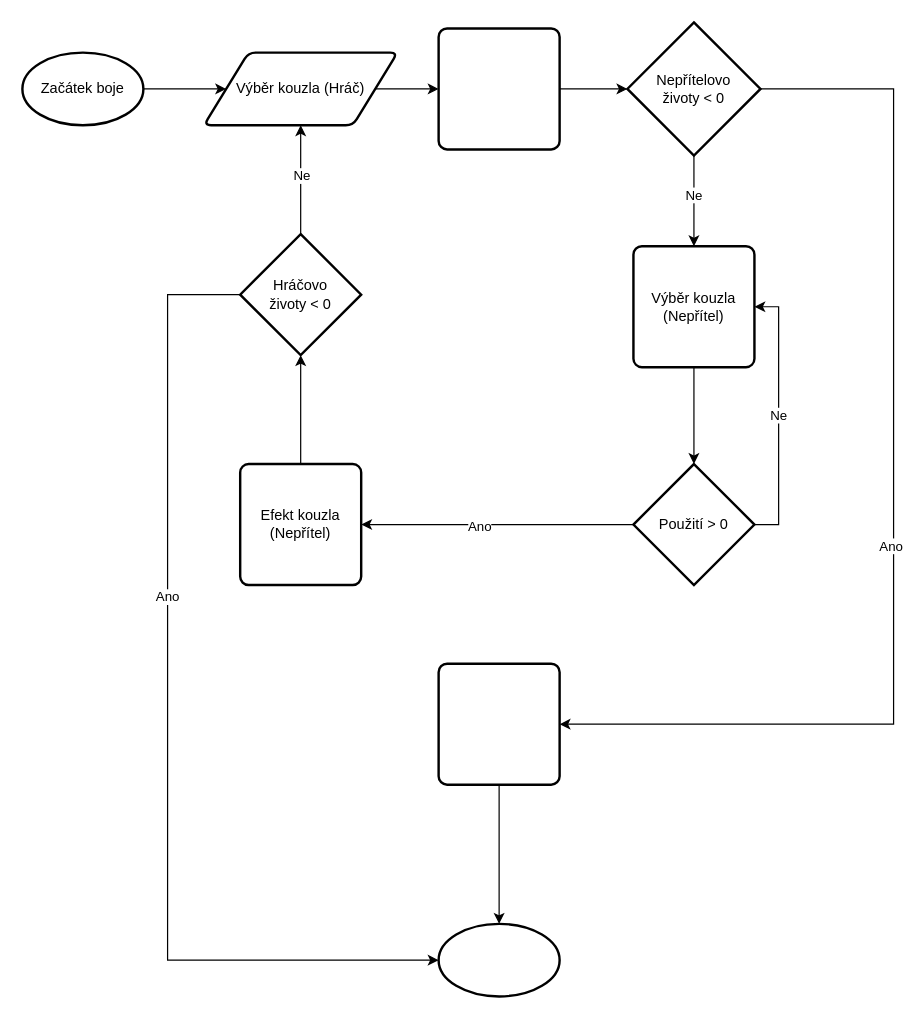
The diagram is 924 pixels wide and 1018 high, and some of its shapes have lost their labels. The shapes that lost their labels are listed below. From the top down, each one's box as (x1, y1, x2, y2) in pixels, then its label:
(437, 27, 560, 150): Efekt kouzla (Hráč) a připočtení jednoho tahu
(437, 662, 560, 785): Přičtení bodů
(437, 922, 560, 997): Konec boje
